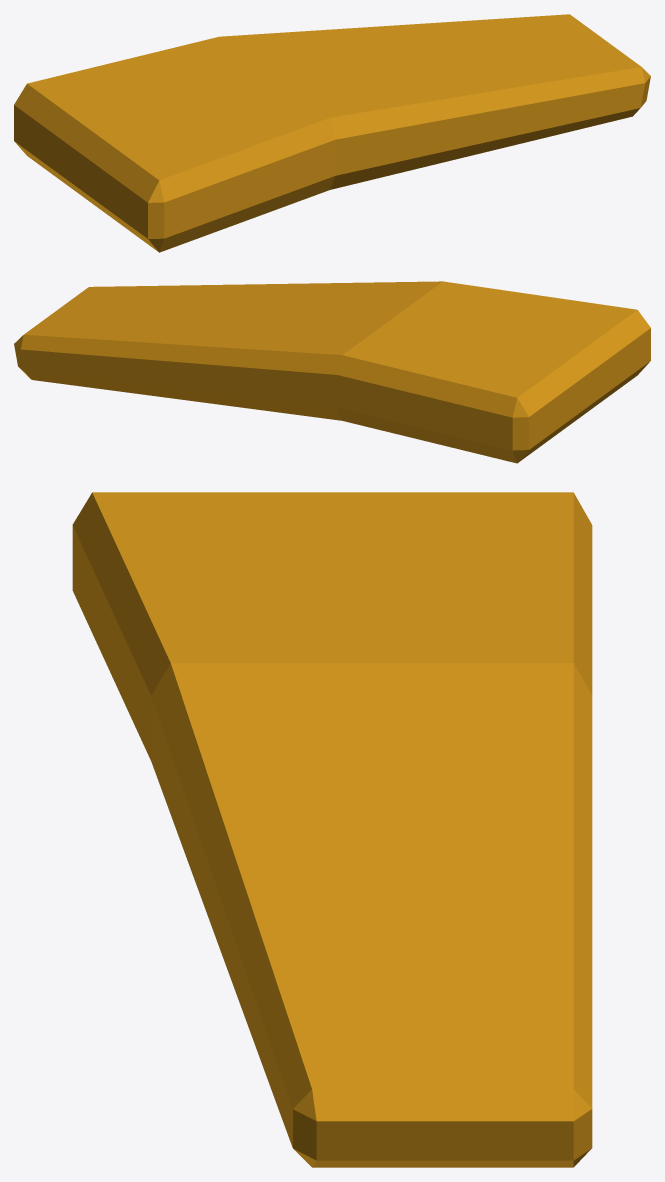
File: Personal_Vehicle_03_Wings_Left_Yellow.fbx
3 views of the same model, one above another, from view 1: azimuth 30°, elevation 25°; view 2: azimuth 150°, elevation 25°; view 3: azimuth 270°, elevation 25° (orthographic). The views are drawn at different scales.
Visible parts, largest first — view 1: Personal_Vehicle_03_Wings_Left_Yellow; view 2: Personal_Vehicle_03_Wings_Left_Yellow; view 3: Personal_Vehicle_03_Wings_Left_Yellow.
Boxes of the visible parts, <box> form: Personal_Vehicle_03_Wings_Left_Yellow: <box>14,14,650,252</box>; Personal_Vehicle_03_Wings_Left_Yellow: <box>14,281,650,463</box>; Personal_Vehicle_03_Wings_Left_Yellow: <box>72,492,592,1167</box>.
Bounding box in the file's own units: 76.65 × 14.31 × 33.49.
Materials: 1 (1 with a texture image).
